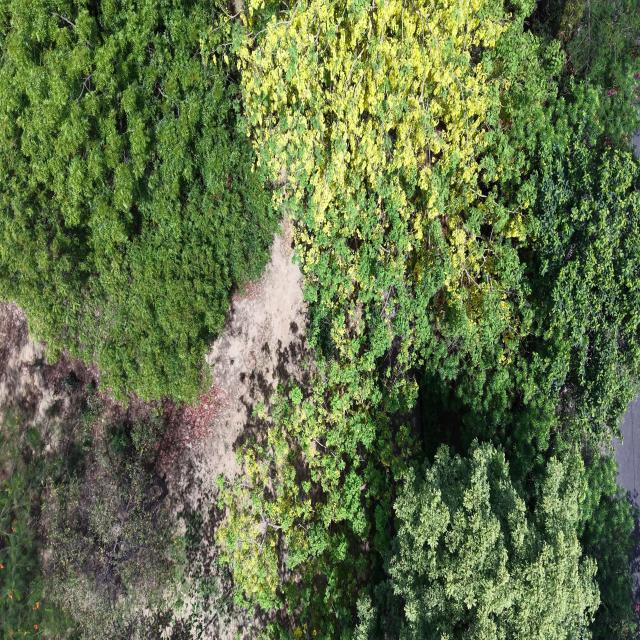DRY_AREA: (101, 221, 306, 572), (161, 221, 306, 566), (163, 222, 306, 567), (173, 221, 308, 572), (164, 220, 305, 483), (161, 235, 305, 479), (184, 220, 305, 494), (182, 235, 306, 493), (0, 302, 205, 451), (203, 236, 305, 478), (0, 302, 155, 461), (0, 302, 97, 447), (0, 304, 54, 423), (614, 398, 639, 508), (614, 399, 639, 506), (633, 130, 639, 158), (634, 131, 639, 157)
VEGETATION_TREE: (0, 0, 639, 639), (220, 2, 639, 637), (226, 2, 562, 634), (240, 2, 562, 405), (0, 0, 276, 400), (421, 83, 639, 472), (0, 360, 233, 639), (360, 443, 634, 638), (0, 388, 184, 639), (387, 443, 599, 639), (522, 84, 639, 437), (44, 421, 183, 639), (0, 408, 71, 639), (531, 0, 639, 146), (580, 450, 637, 638)
